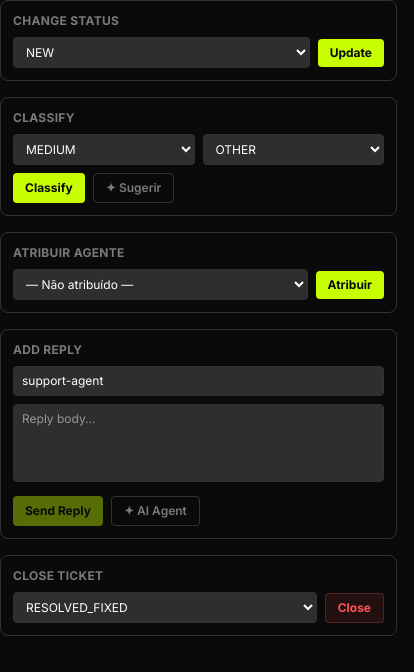
it: ActionButtons — AI classify suggest › shows error message when suggestClassify fails
This screenshot has width=414, height=672.
Click the button titled "sugerir categoria e prioridade" at {"x": 134, "y": 188}, box [93,173,174,203]
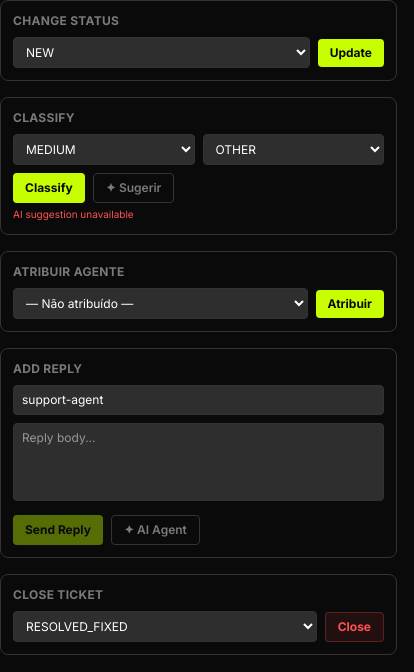
Expected: the text "AI suggestion unavailable" is shown, [13,208,134,220]
